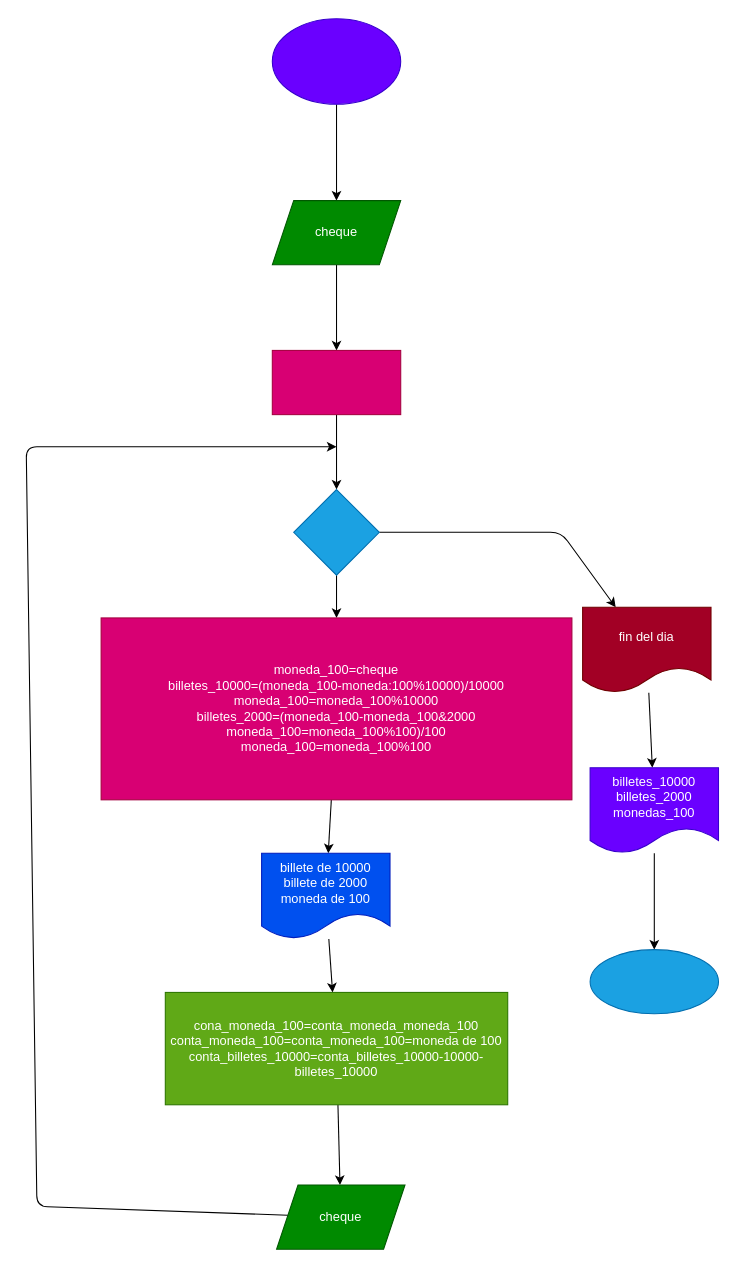
Some shapes in this 737 by 1268 pixel diagram are drawn without their labels. Each missing label, with the box of its shape:
cheque!=0: (293, 488, 379, 575)
fin: (589, 949, 719, 1014)
inicio: (271, 18, 401, 104)
moneda_100=0 billetes_10000=0 billetes=0: (271, 349, 401, 415)
